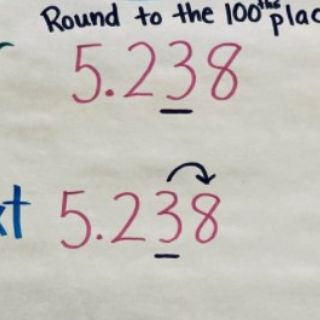.: (104, 88, 116, 98), (94, 234, 104, 242)
2: (111, 187, 151, 245), (122, 37, 156, 98)
3: (166, 37, 196, 103), (155, 187, 185, 245)
5: (66, 40, 105, 104), (58, 184, 95, 250)
8: (205, 41, 243, 101), (189, 192, 228, 245)
